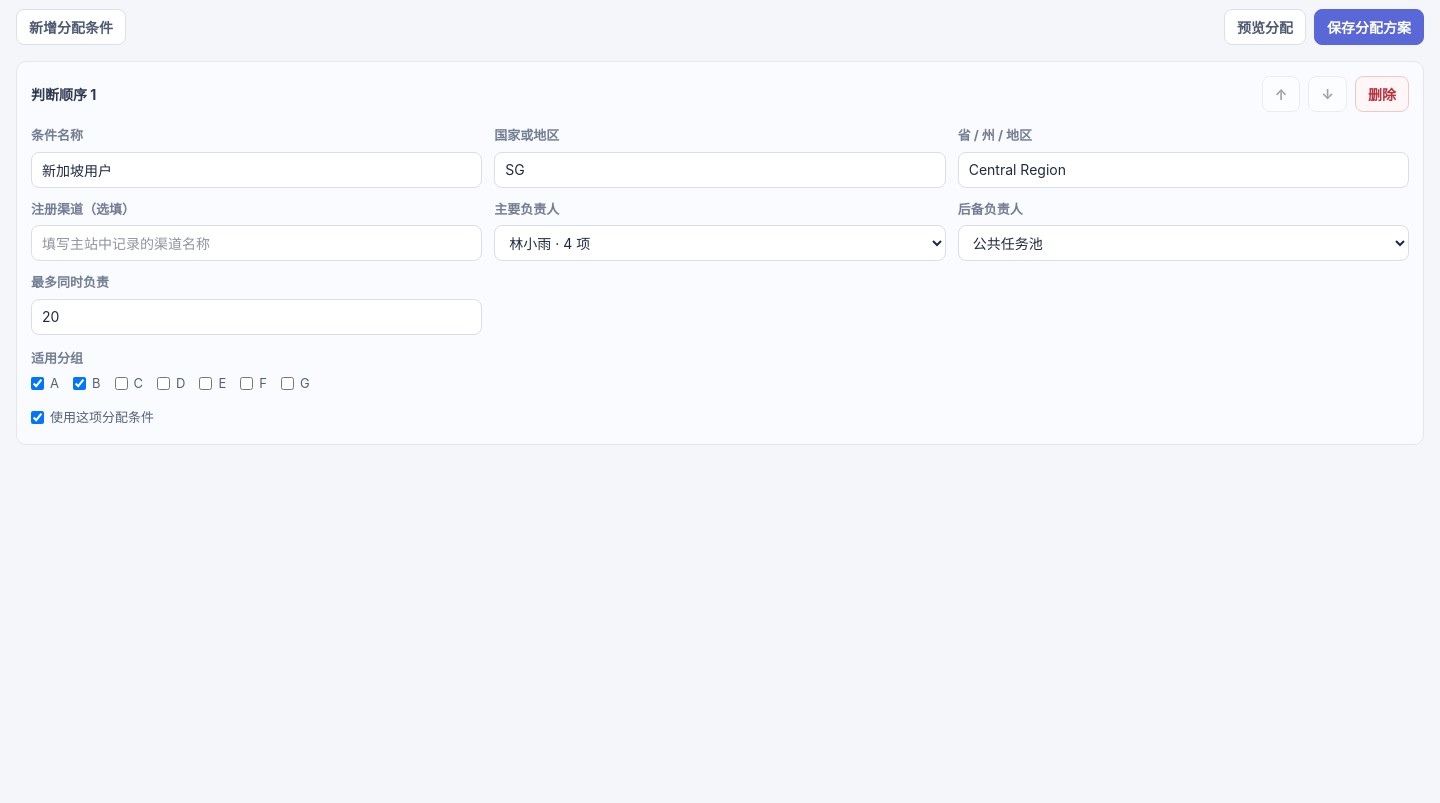
Test case: AssignmentRuleEditor › adds rules and previews the current draft
Check: the field showing "新加坡用户" is shown, box [31,152,482,188]
Check: the field showing "Central Region" is shown, box [958,152,1409,188]
Click the button "新增分配条件": (71, 27) [16,9,126,45]
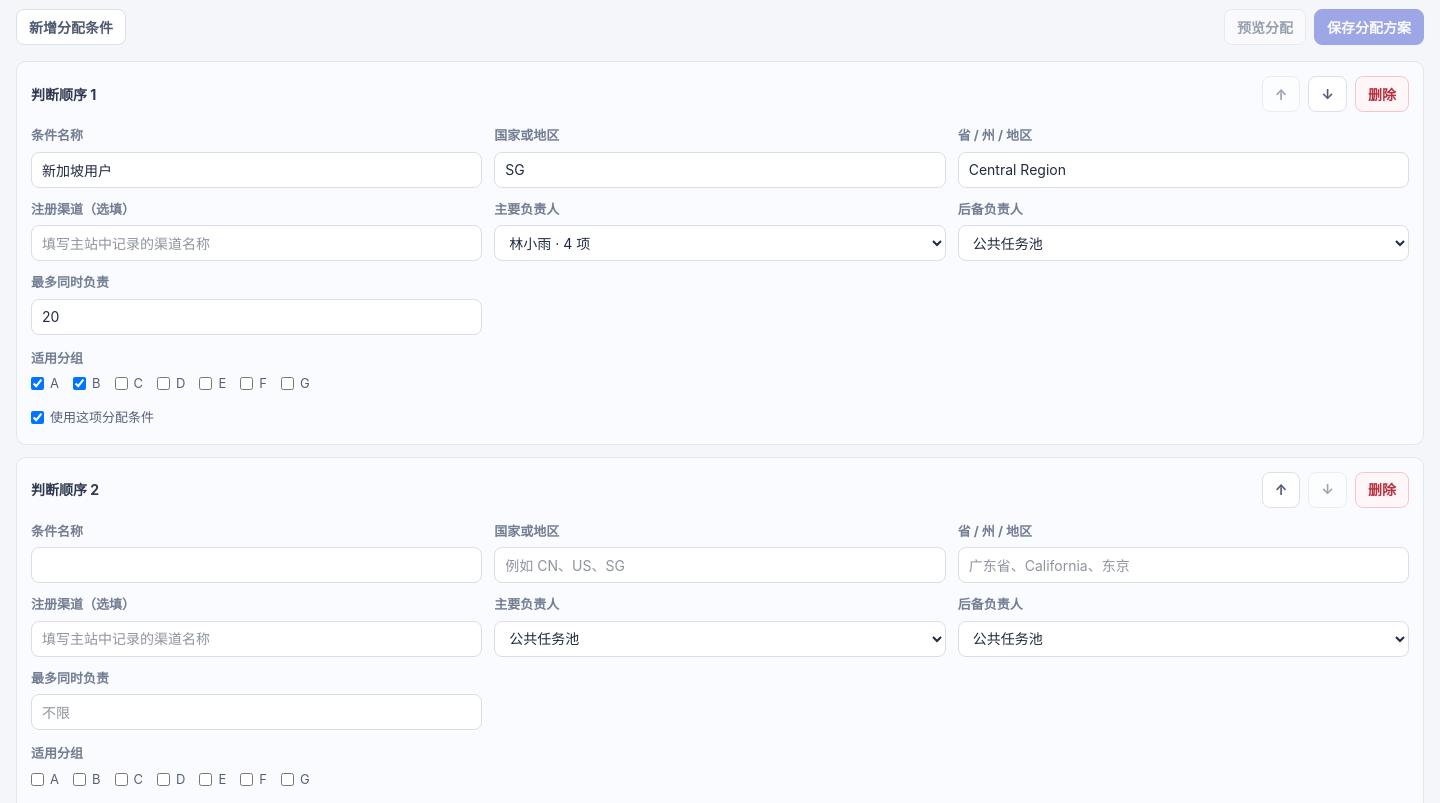
Check: the number of fields named "分配条件名称" is 2
In the field named "分配条件名称": (257, 565) [31,547,482,583], type "美国用户"
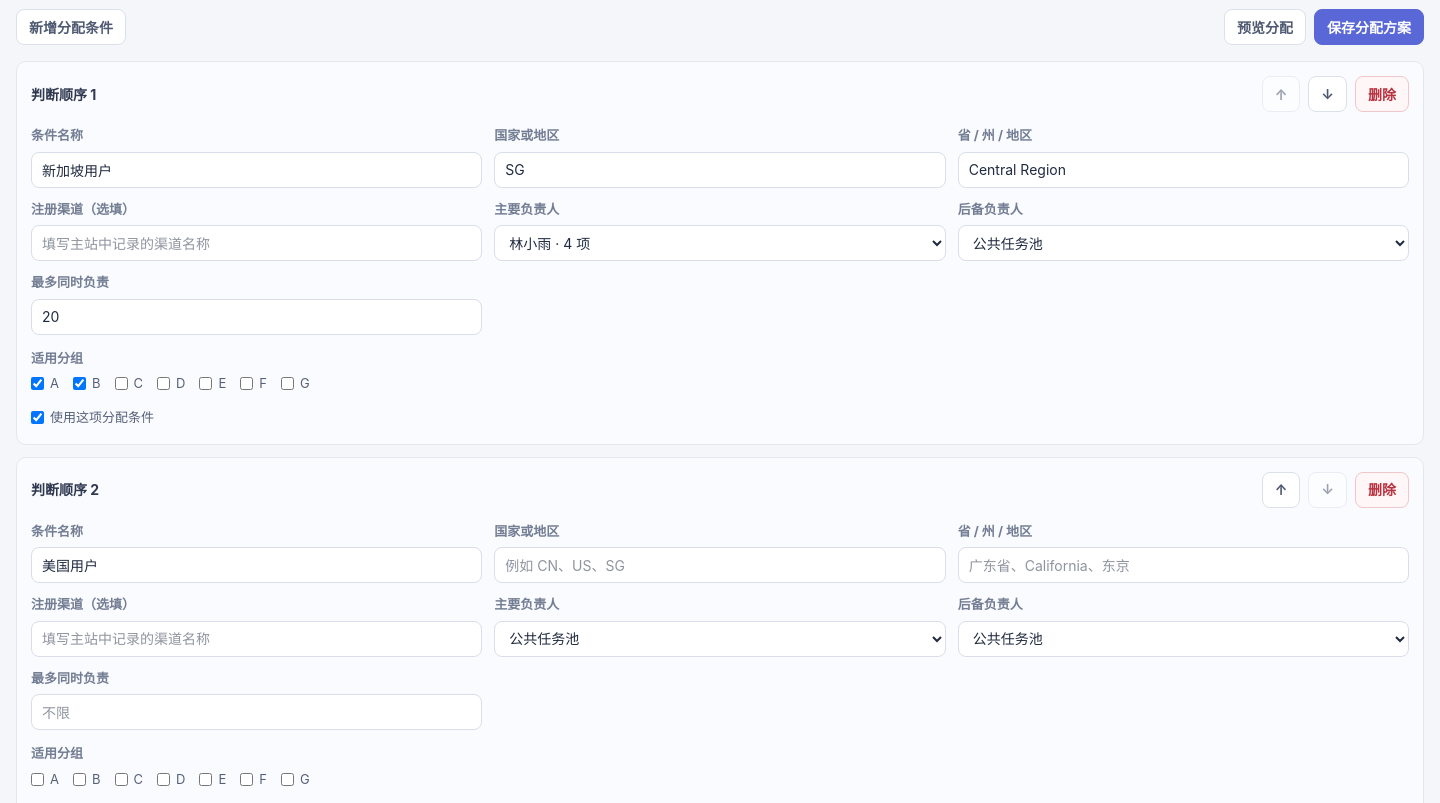
Click the button "预览分配": (1265, 27) [1224,9,1306,45]
(page scrolled)
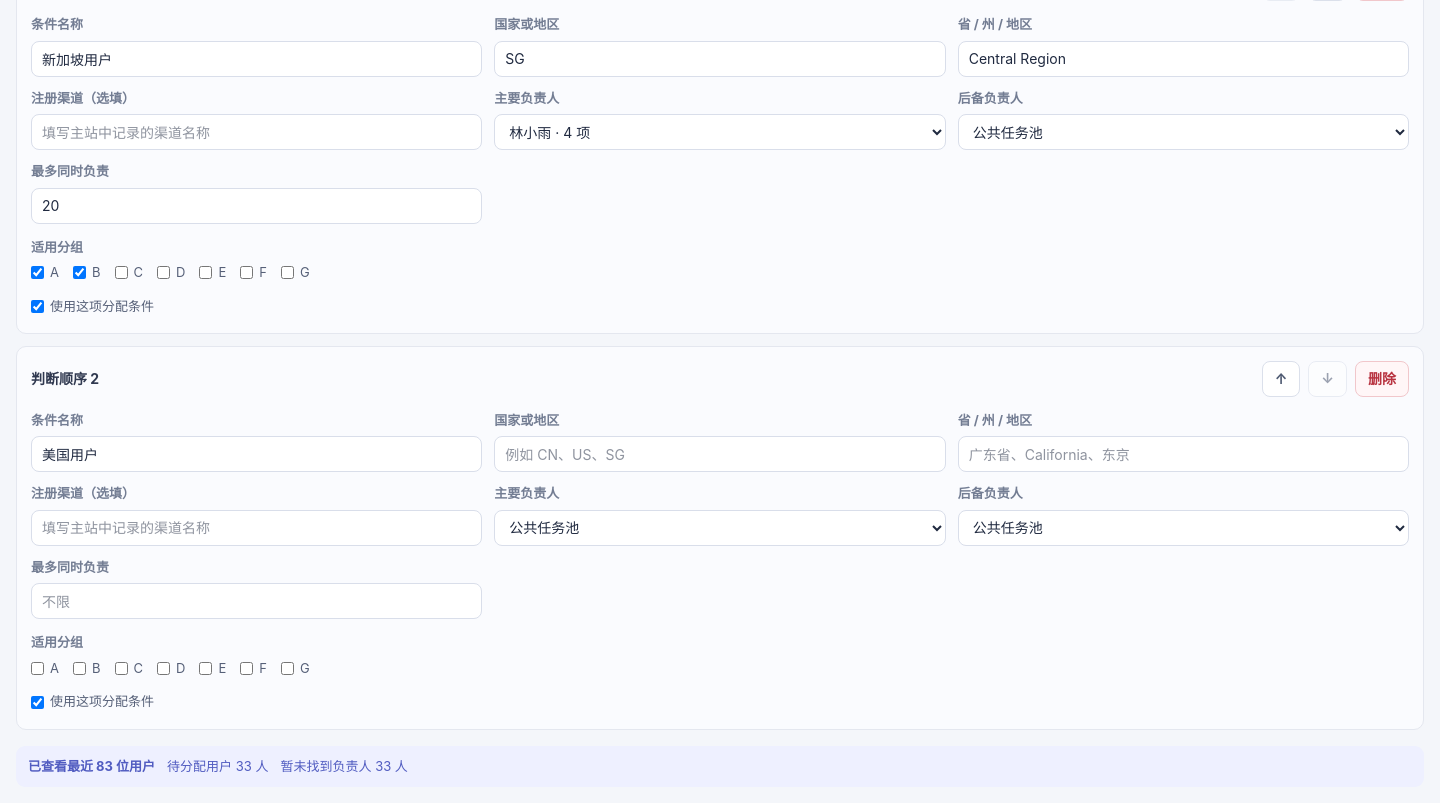
Check: the text "已查看最近 83 位用户" is shown, box [28,756,155,776]
Check: the text "待分配用户 33 人" is shown, box [167,756,268,776]
